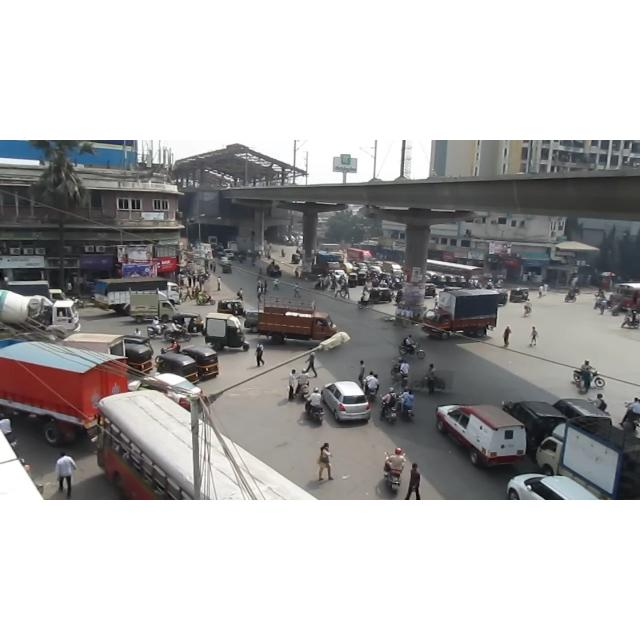auto: (150, 352, 203, 388), (182, 344, 224, 380), (172, 310, 208, 338), (215, 300, 251, 316), (369, 286, 394, 306), (511, 286, 532, 304), (288, 253, 305, 269)
car: (434, 401, 534, 469), (502, 401, 566, 455), (128, 373, 204, 411), (506, 474, 598, 500), (551, 398, 611, 434), (321, 381, 371, 422), (331, 267, 347, 280), (224, 248, 234, 260)
